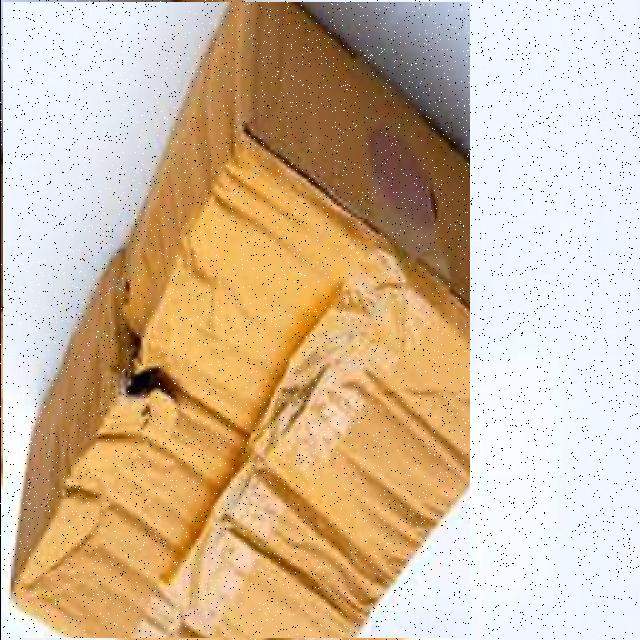defect: (2, 2, 469, 638)
